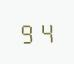four: (37, 19, 54, 43)
nine: (19, 20, 36, 44)
